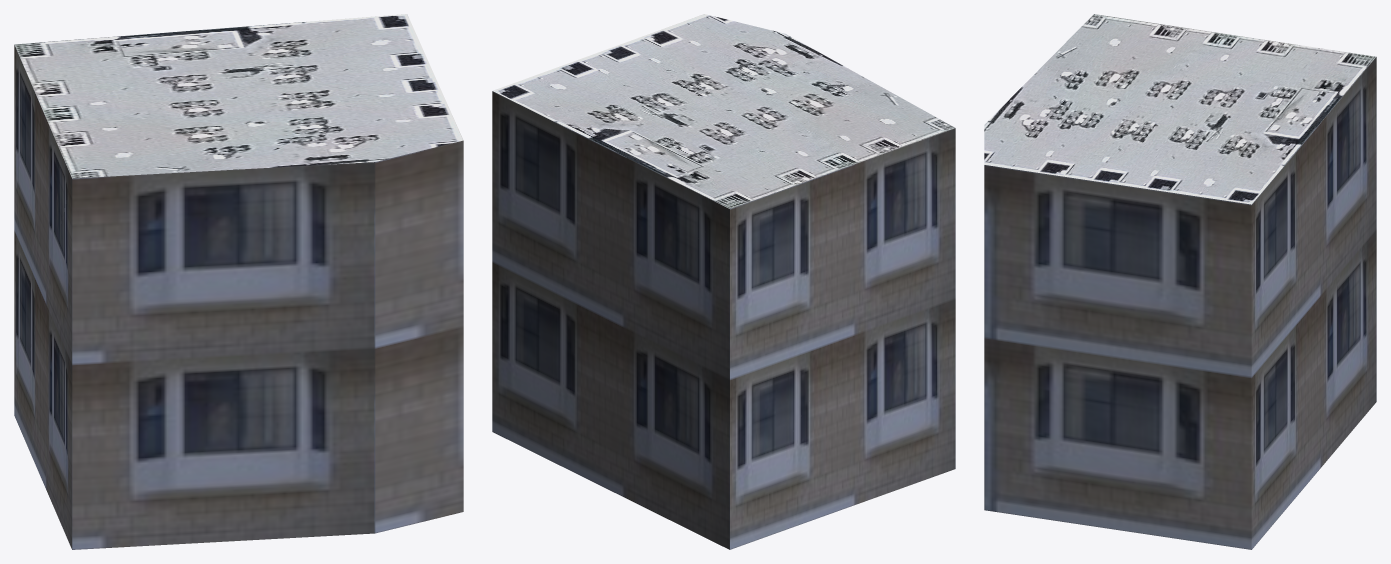
The model's file is ResTex__79.fbx.
The picture shows the model from 3 angles, left to right: view 1: azimuth 30°, elevation 25°; view 2: azimuth 150°, elevation 25°; view 3: azimuth 270°, elevation 25°; orthographic projection. The views are drawn at different scales.
Parts seen in each view (by area): view 1: CityEngineMaterial_3_m, CityEngineMaterial_8_m; view 2: CityEngineMaterial_3_m, CityEngineMaterial_8_m; view 3: CityEngineMaterial_3_m, CityEngineMaterial_8_m.
Boxes of the visible parts, x1,y1,x2,y2 form: CityEngineMaterial_3_m: (14,45,463,549); CityEngineMaterial_8_m: (14,14,463,178); CityEngineMaterial_3_m: (492,91,955,549); CityEngineMaterial_8_m: (493,14,954,208); CityEngineMaterial_3_m: (984,57,1376,549); CityEngineMaterial_8_m: (984,14,1375,204).
Size of the model in its own units: 7.1 by 6 by 6.17.
2 materials, 2 textured.
